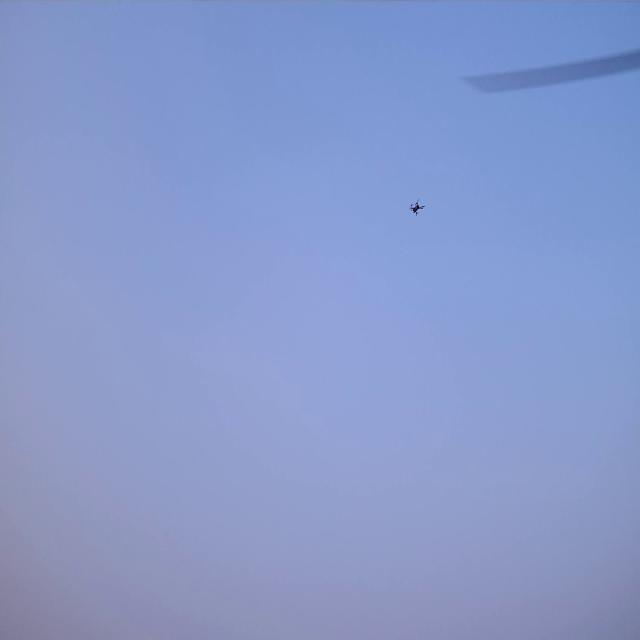UAV: (410, 197, 426, 216)
